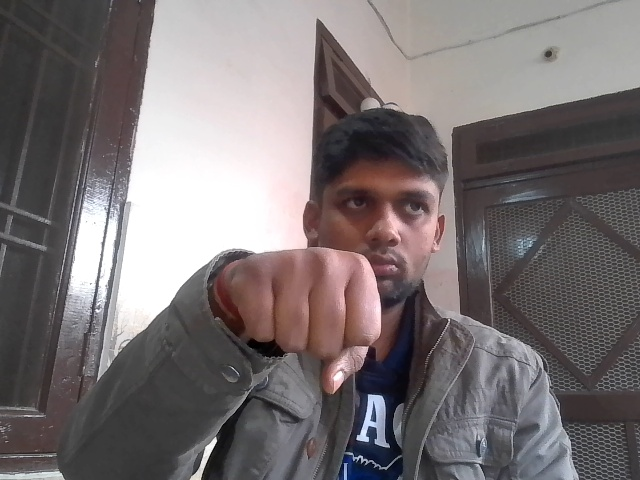Yes: (210, 224, 409, 416)
